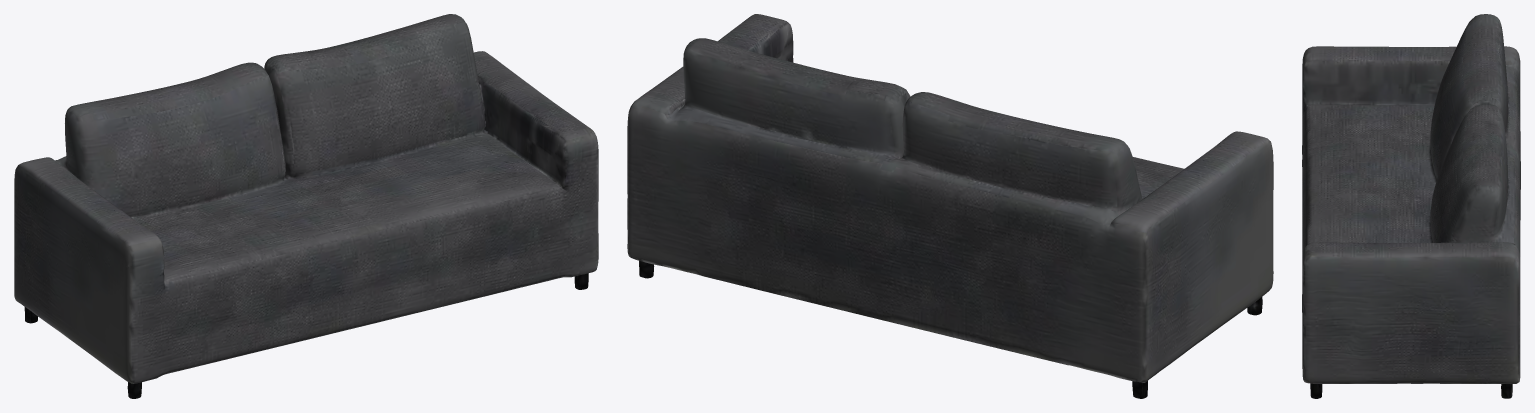
The model's file is card.glb.
The picture shows the model from 3 angles, left to right: view 1: azimuth 30°, elevation 25°; view 2: azimuth 150°, elevation 25°; view 3: azimuth 270°, elevation 25°; orthographic projection. The views are drawn at different scales.
Parts seen in each view (by area): view 1: model; view 2: model; view 3: model.
Boxes of the visible parts, box(x1,y1,x2,y2) form: model: box(14, 14, 598, 398); model: box(627, 14, 1273, 398); model: box(1302, 14, 1520, 398).
Bounding box in the file's own units: 2 × 0.8673 × 0.8709.
Materials: 1 (1 with a texture image).
